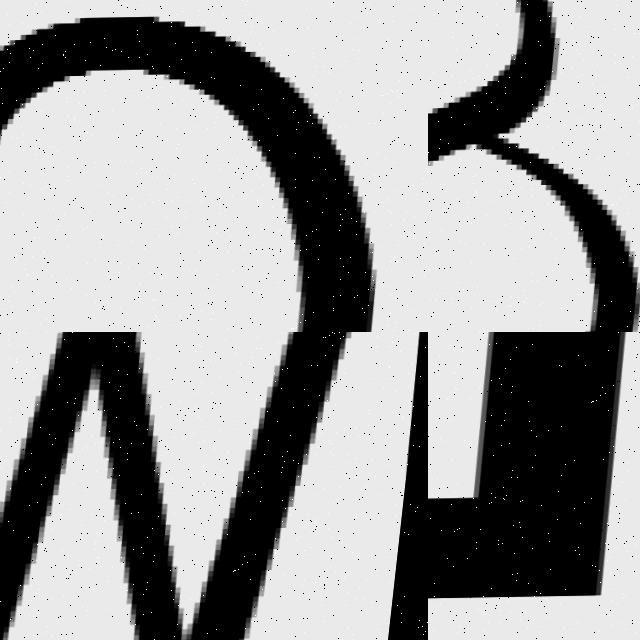8: (428, 0, 640, 332)
L: (428, 332, 640, 604)
O: (0, 16, 384, 332)
W: (0, 332, 381, 640)
